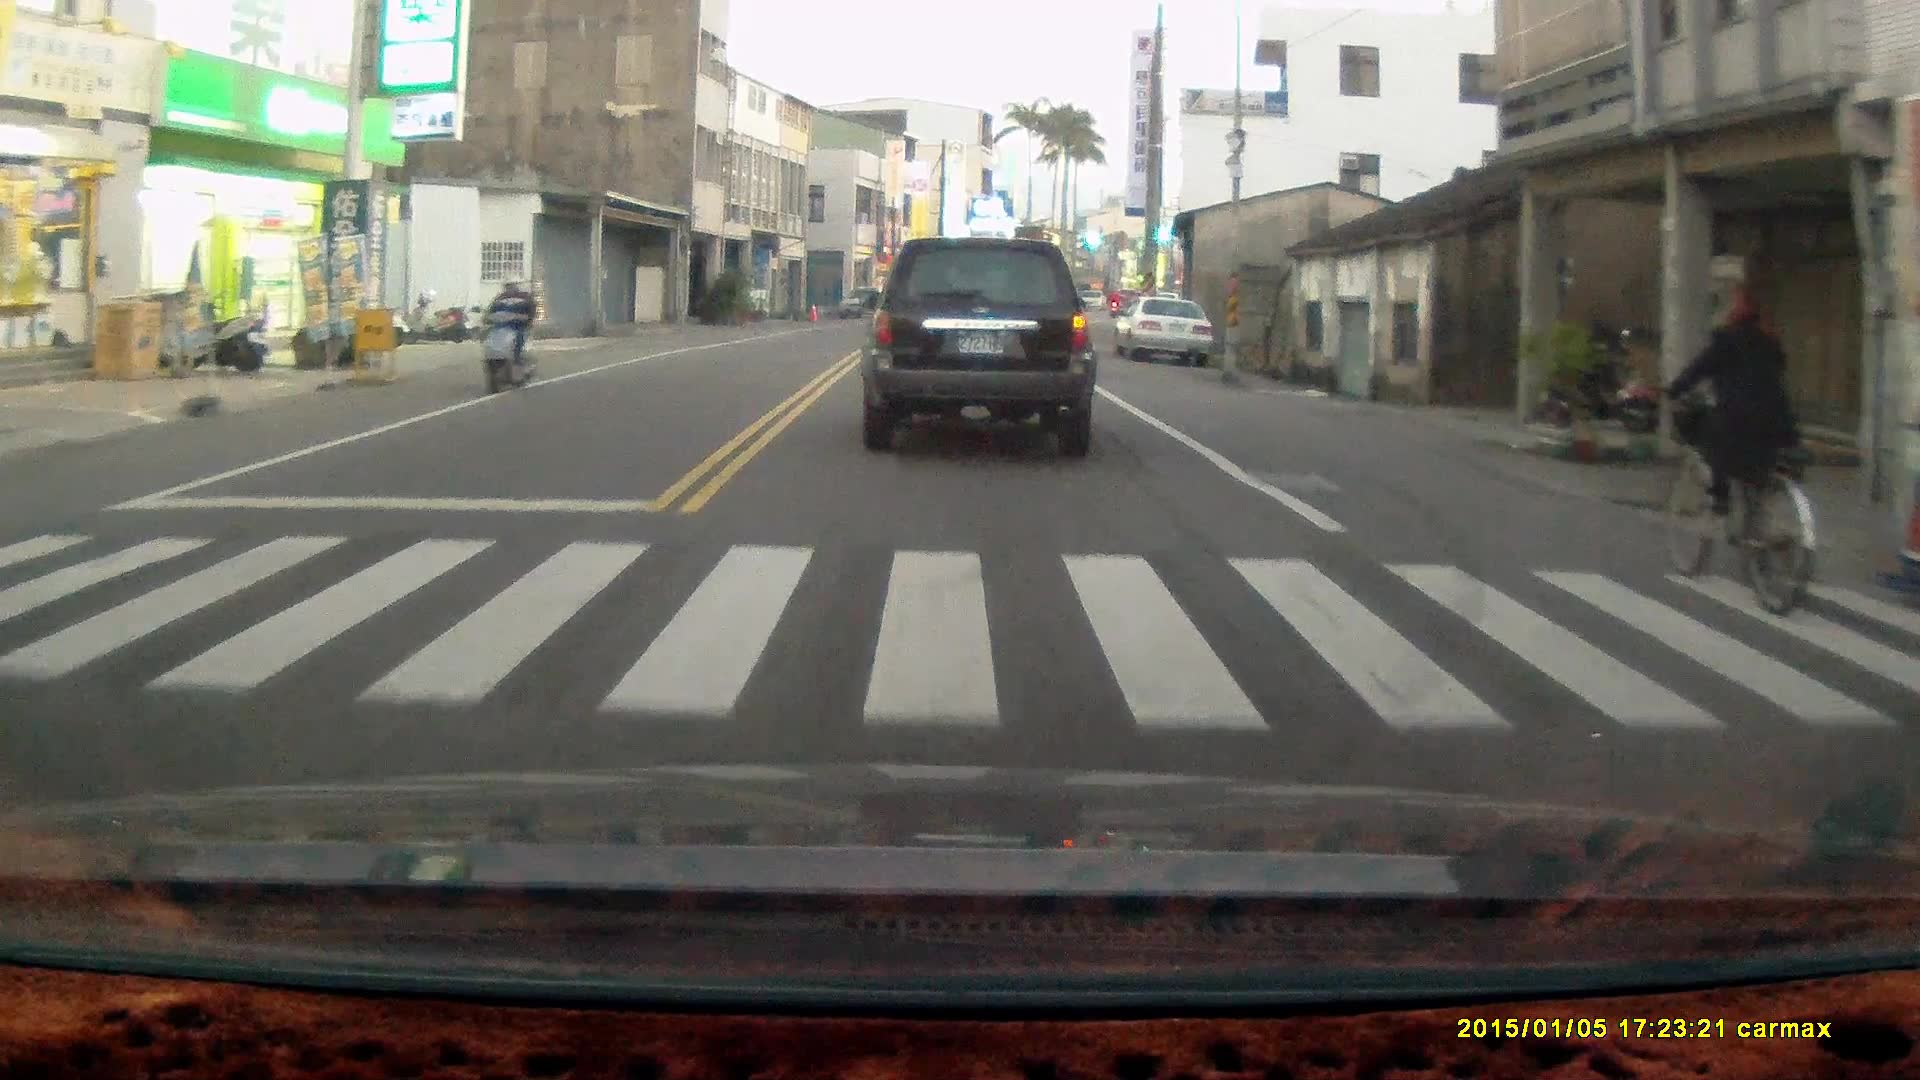rider: (1657, 282, 1823, 620), (468, 269, 537, 396)
vehicle: (862, 235, 1099, 460), (1119, 296, 1219, 364)
